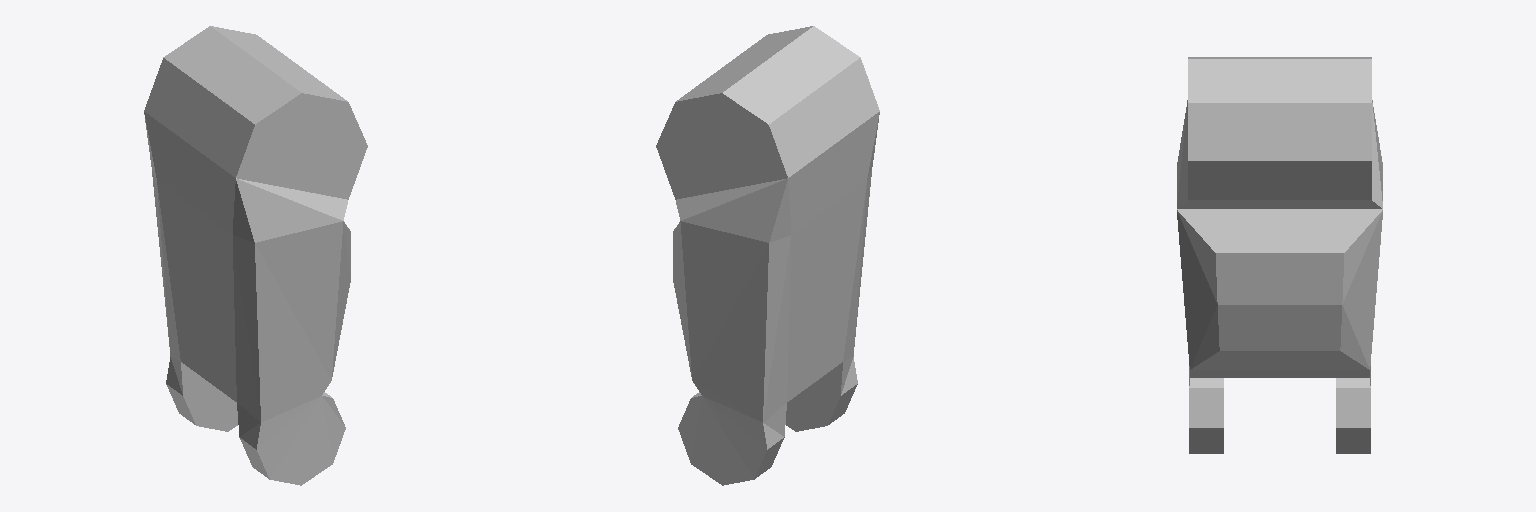
File: middlej1_right.obj
The picture shows the model from 3 angles: view 1: azimuth 30°, elevation 25°; view 2: azimuth 150°, elevation 25°; view 3: azimuth 270°, elevation 25°; orthographic projection.
Size of the model in its own units: 0.019 by 0.0541 by 0.0258.